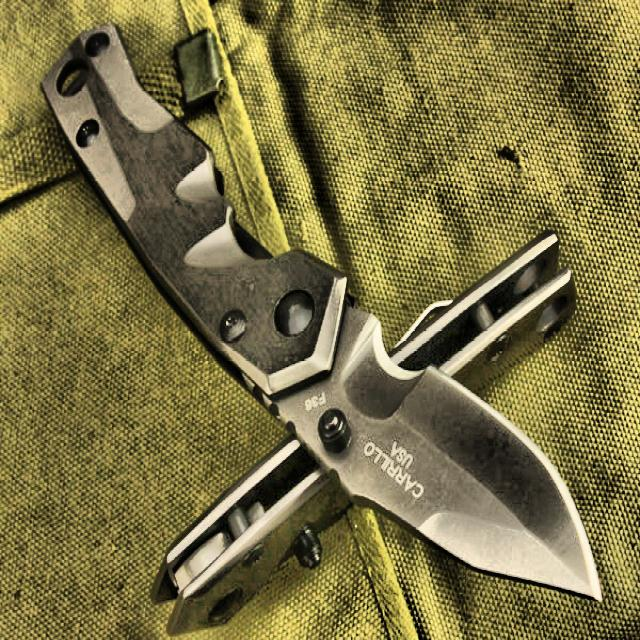knife: (44, 24, 602, 602)
